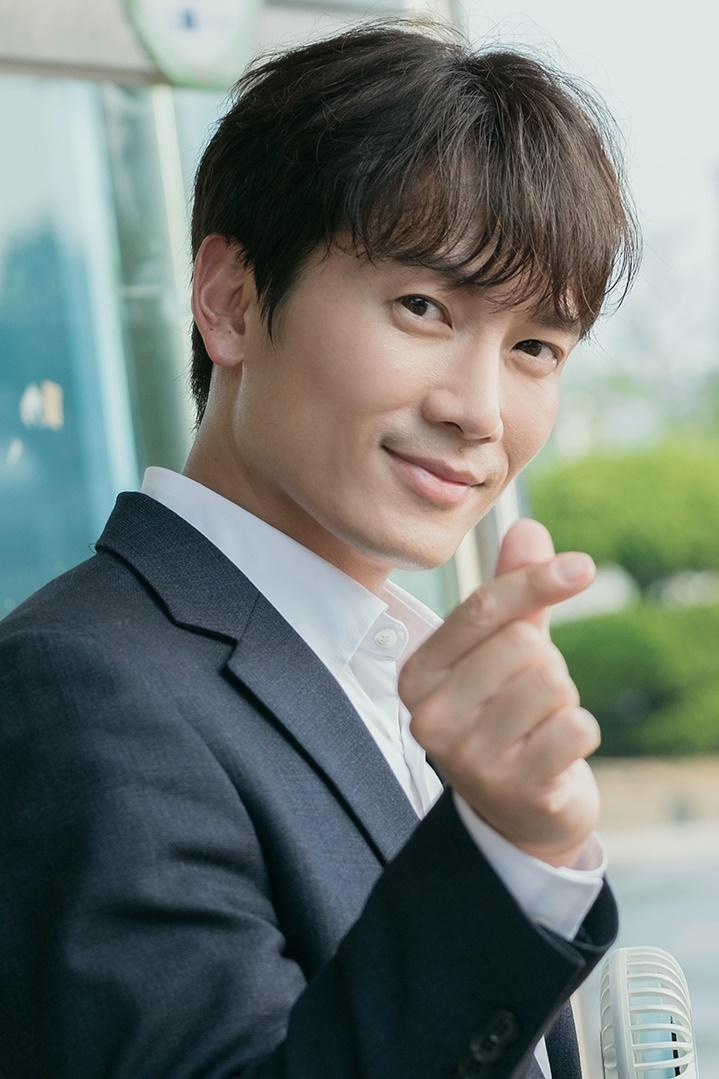heart gesture: (487, 512, 602, 621)
